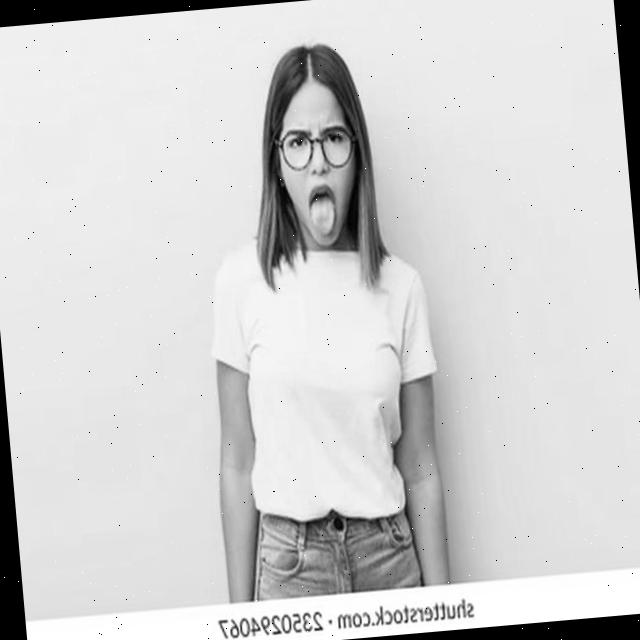Disgust: (274, 80, 360, 248)
